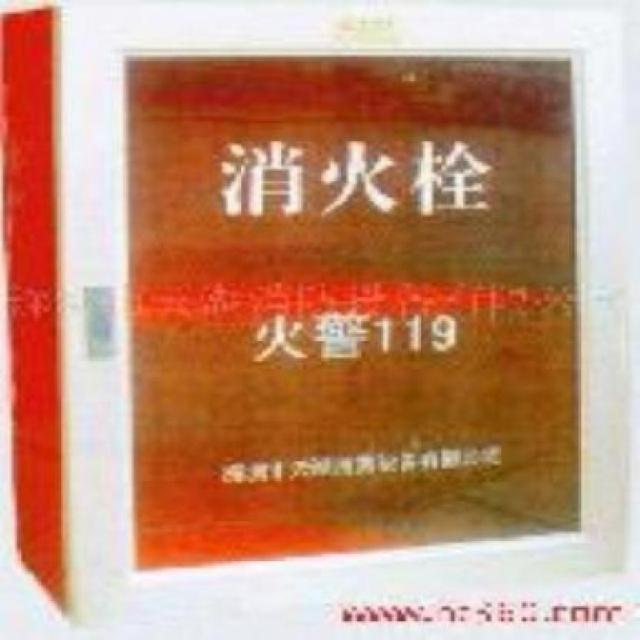firehydrant: (0, 1, 639, 637)
